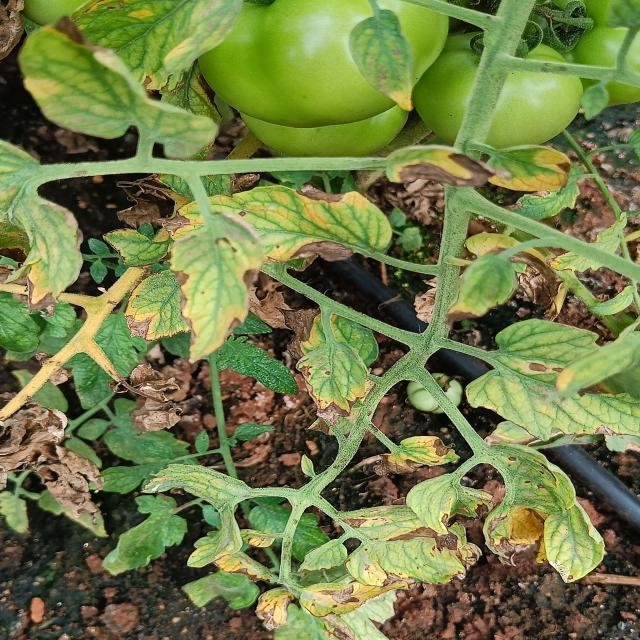Tomato mosaic virus leaf: (482, 444, 608, 584), (219, 180, 396, 278), (337, 502, 482, 588), (485, 326, 599, 412), (294, 338, 384, 436), (395, 430, 461, 470)
